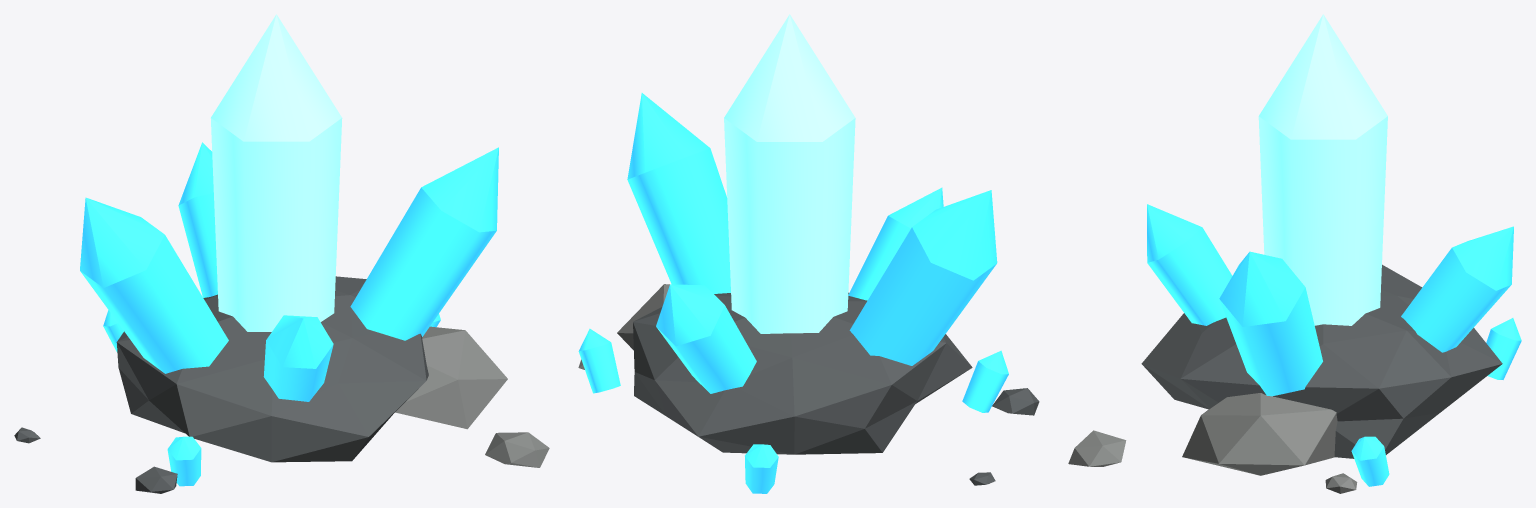
Rendered from CrystalWater.glb.
3 renders of one model, left to right at view 1: azimuth 30°, elevation 25°; view 2: azimuth 150°, elevation 25°; view 3: azimuth 270°, elevation 25°, orthographic.
Parts seen in each view (by area): view 1: Glow, Body, GlowCore; view 2: Glow, GlowCore, Body; view 3: Body, GlowCore, Glow.
Part boxes in pixels (x1,y1,x2,y2): Glow: (80,142,498,486); Body: (14,276,549,493); GlowCore: (210,14,342,331); Glow: (578,93,1008,493); GlowCore: (724,14,855,333); Body: (578,284,1039,485); Body: (1068,264,1502,493); GlowCore: (1258,14,1387,325); Glow: (1147,204,1521,486).
Size of the model in its own units: 4.7 by 4.16 by 4.35.
3 materials, 1 textured.
